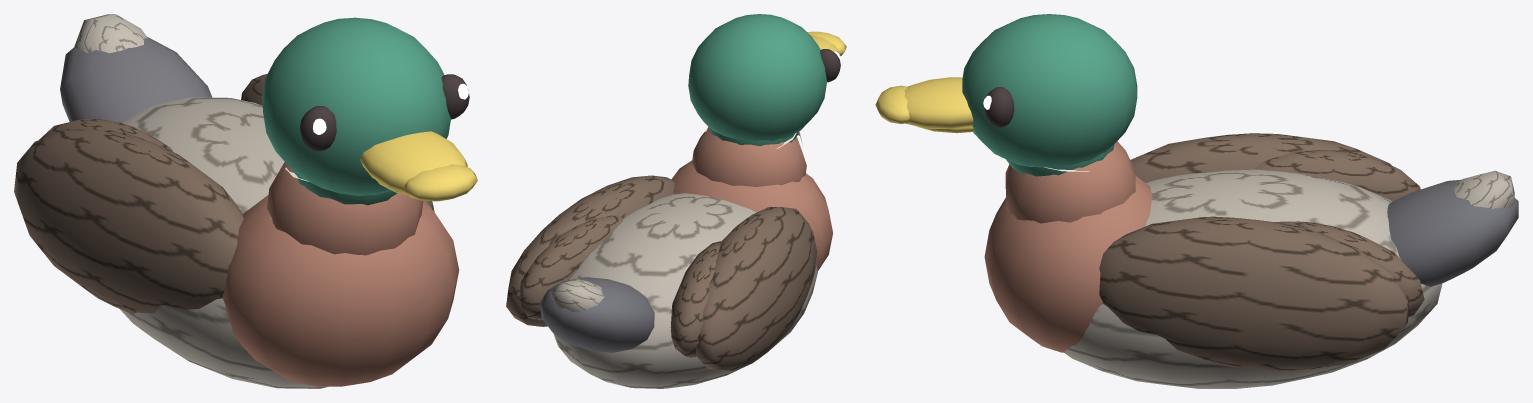
Rendered from anime_duck_mallard.glb.
3 views of the same model, side by side, from view 1: azimuth 30°, elevation 25°; view 2: azimuth 150°, elevation 25°; view 3: azimuth 270°, elevation 25° (orthographic). The views are drawn at different scales.
Parts seen in each view (by area): view 1: anime_duck_mallard; view 2: anime_duck_mallard; view 3: anime_duck_mallard.
Part boxes in pixels (x1,y1,x2,y2): anime_duck_mallard: (14,14,477,388); anime_duck_mallard: (506,14,846,388); anime_duck_mallard: (875,14,1518,388).
Size of the model in its own units: 0.5391 by 0.6248 by 1.04.
Materials: 10 (2 with a texture image).
